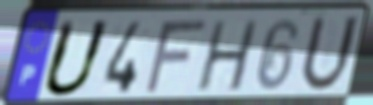4: (101, 19, 144, 97)
6: (254, 16, 301, 94)
F: (141, 17, 211, 97)
H: (193, 18, 260, 94)
U: (39, 18, 114, 100), (297, 13, 362, 96)
